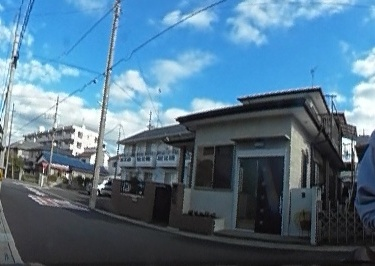person: (356, 32, 375, 266)
